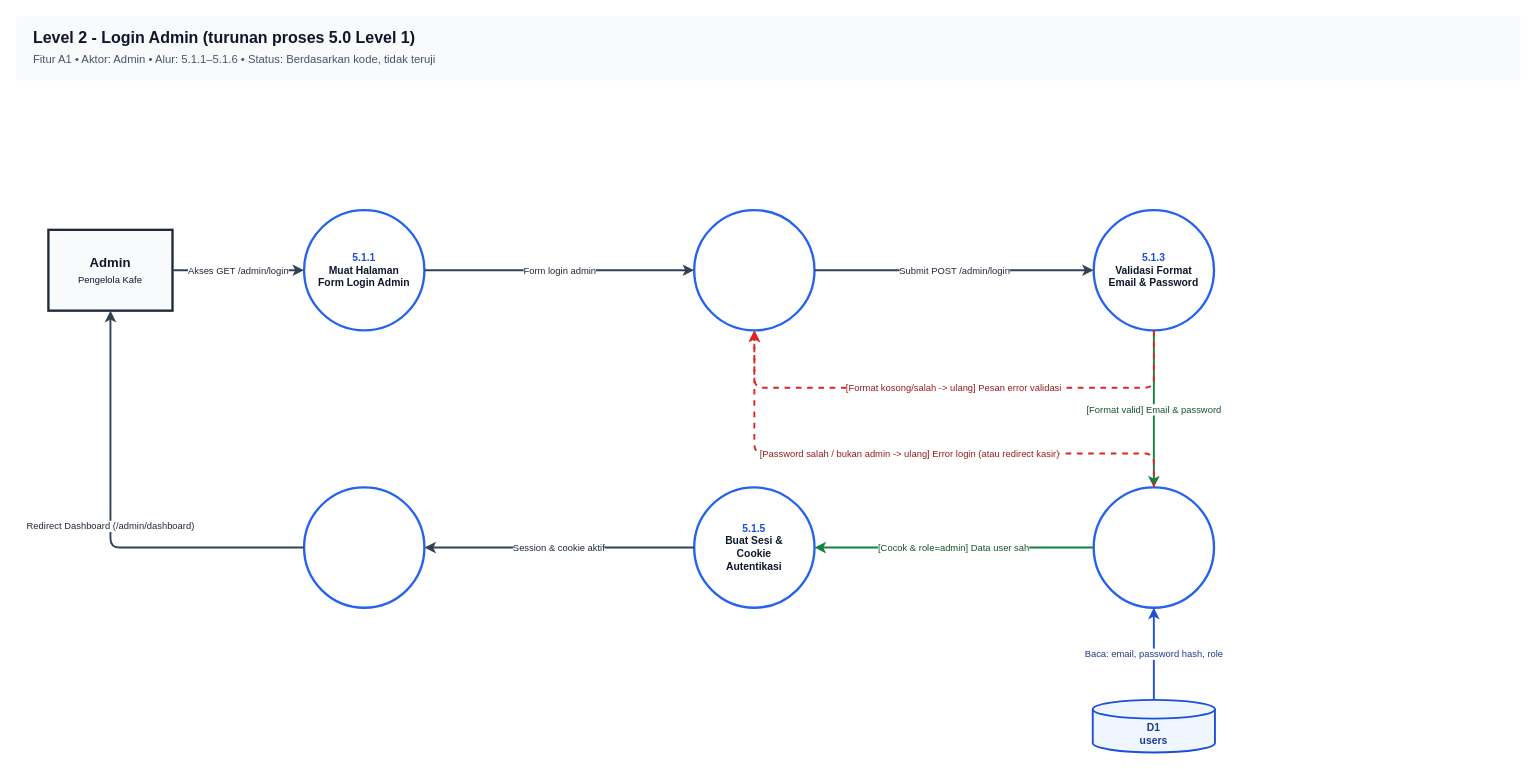
Some shapes in this 1536 by 769 pixel diagram are drawn without their labels. The shapes that lost their labels are listed below. From the top down, each one's centre as x and y in pixels, then its label:
At [754,269]: "5.1.2 Input Email, Password & Remember".
At [363,547]: "5.1.6 Arahkan ke Dashboard Admin".
At [1153,547]: "5.1.4 Cek Kredensial & Role Admin".
